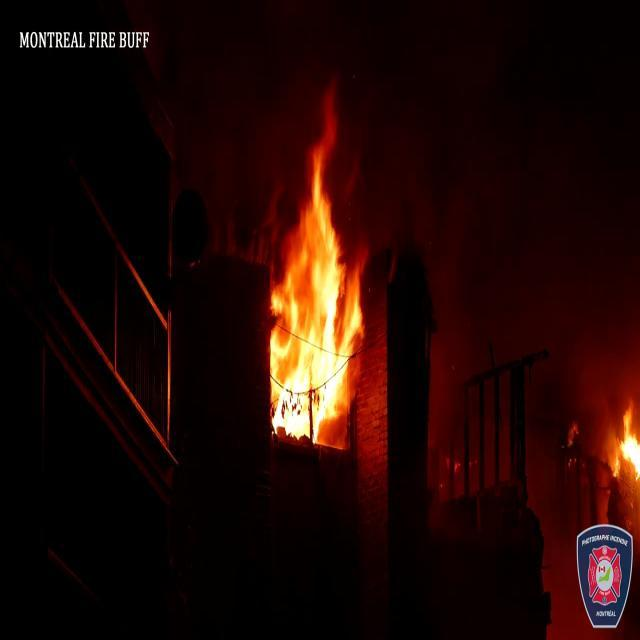Fire: (262, 88, 372, 444), (610, 403, 640, 498)
